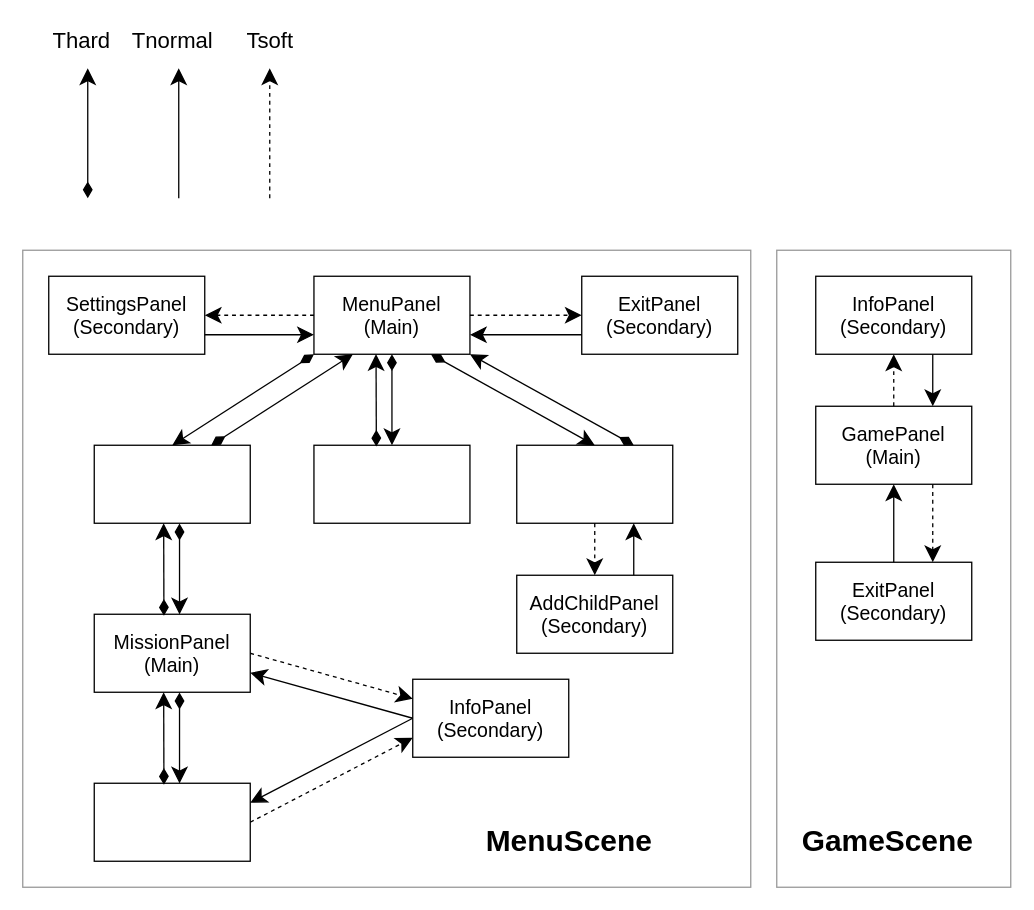
This 1034x910 diagram has some shape labels left out. The centre of each missing label's shape, as x and y in pixels:
"ChildrenPanel (Main)" goes at point 594,483.
"LevelPanel (Main)" goes at point 171,821.
"SectionPanel (Main)" goes at point 171,483.
"StatPanel(Main)" goes at point 391,483.
